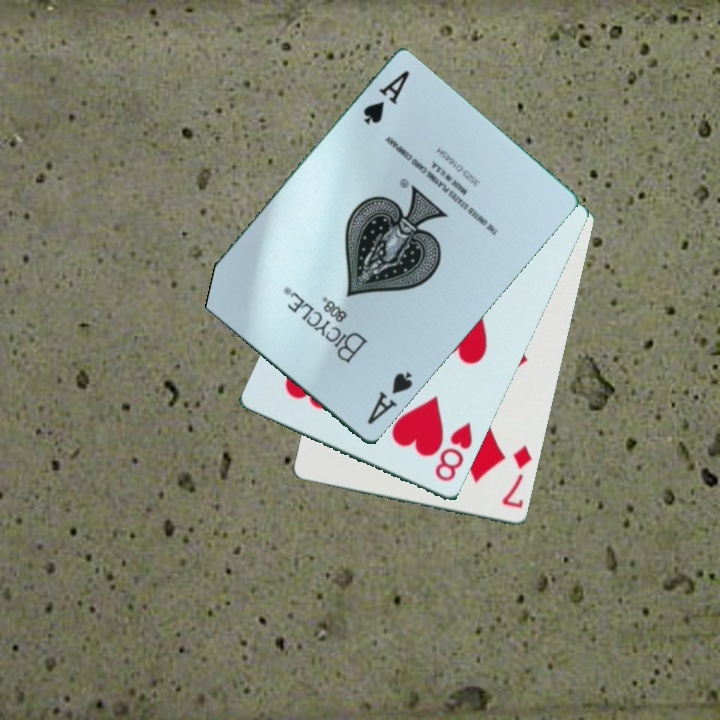7d: (498, 442, 535, 512)
8h: (431, 419, 476, 485)
As: (359, 67, 413, 128), (363, 368, 416, 428)
